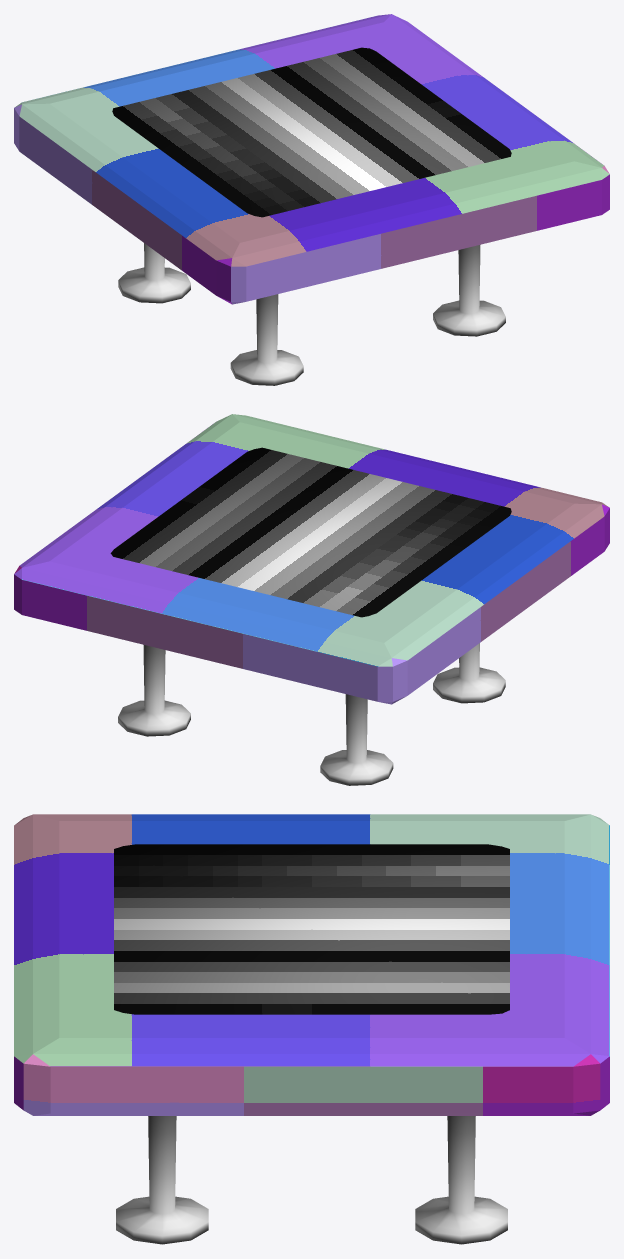
File: rmk_dot_tableL_jwl.dae
The picture shows the model from 3 angles, top to bottom: view 1: azimuth 30°, elevation 25°; view 2: azimuth 150°, elevation 25°; view 3: azimuth 270°, elevation 25°; orthographic projection. The views are drawn at different scales.
Parts seen in each view (by area): view 1: rmk_dot_tableL_jwl; view 2: rmk_dot_tableL_jwl; view 3: rmk_dot_tableL_jwl.
Part boxes in pixels (bbox=[...]): rmk_dot_tableL_jwl: bbox=[14, 14, 609, 385]; rmk_dot_tableL_jwl: bbox=[14, 414, 609, 785]; rmk_dot_tableL_jwl: bbox=[14, 814, 609, 1244].
Size of the model in its own units: 54.23 by 22.99 by 54.26.
4 materials, 4 textured.
